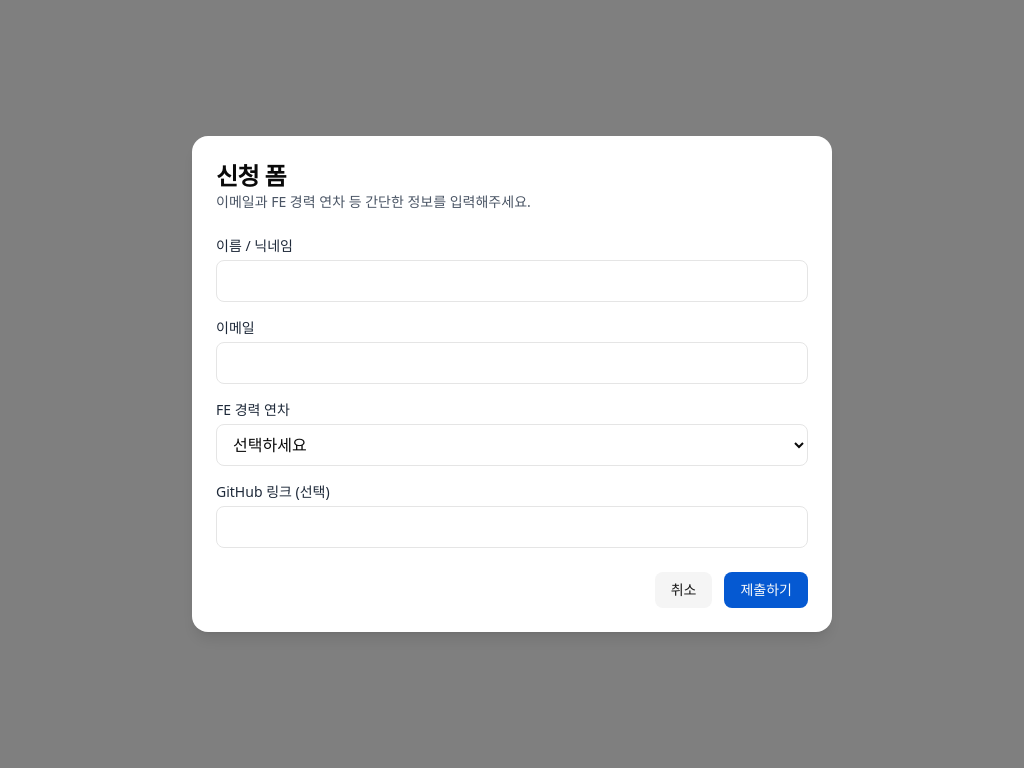
Test: DeveloperFormModal › 필수 필드가 비어있을 때 검증 오류를 표시한다
The image size is (1024, 768).
What coordinates should you click on to do the following:
click the button "제출하기"
I would click on:
 (766, 590)
Its box is [724, 572, 808, 608].
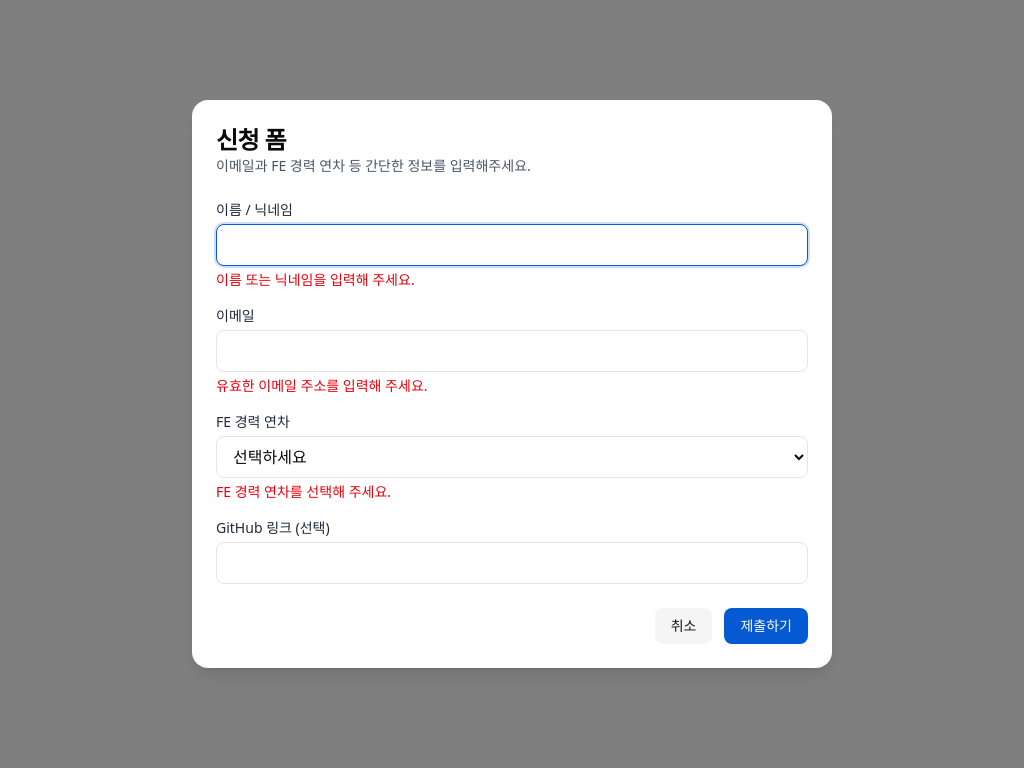
Expected: the text "이름 또는 닉네임을 입력해 주세요." is shown, [216, 270, 415, 289]
Expected: the text "유효한 이메일 주소를 입력해 주세요." is shown, [216, 376, 428, 395]
Expected: the text "FE 경력 연차를 선택해 주세요." is shown, [216, 482, 391, 501]
